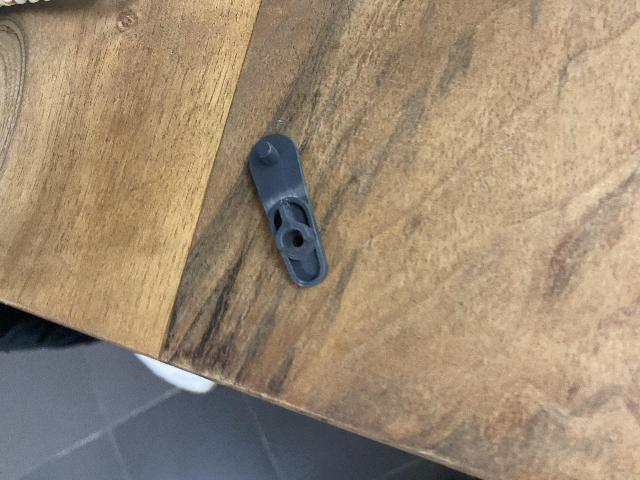Plastik: (241, 135, 335, 294)
